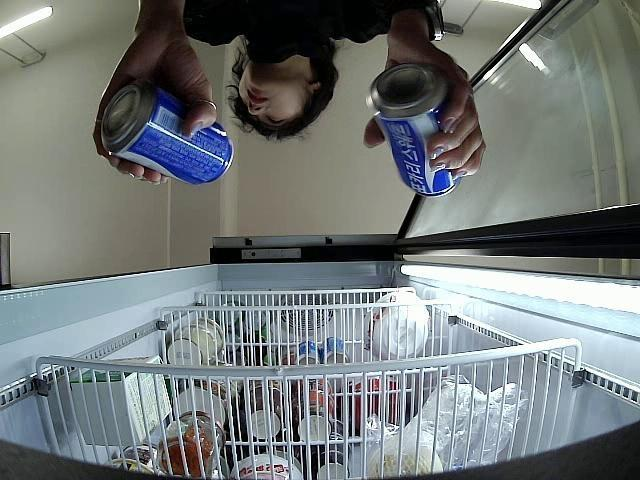13_pocariSweat: (102, 84, 234, 184), (367, 65, 462, 198)
